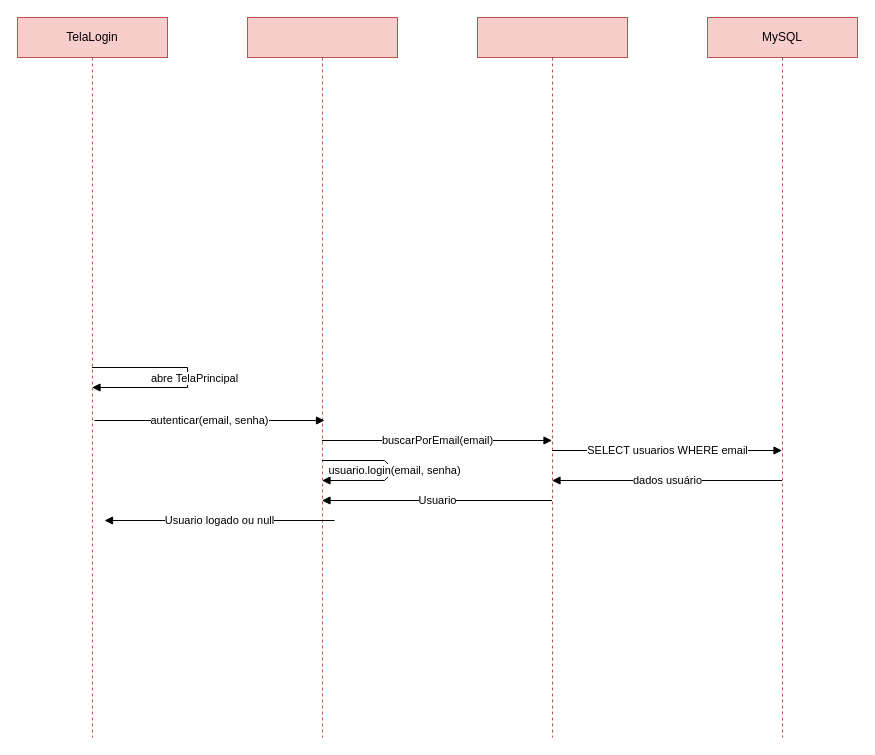
This 875x755 diagram has some shape labels left out. The shapes that lost their labels are listed below. From the top down, each one's box as (x1, y1, x2, y2) in pixels, then its label:
(246, 16, 398, 738): LoginController
(476, 16, 628, 738): UsuarioDAO
